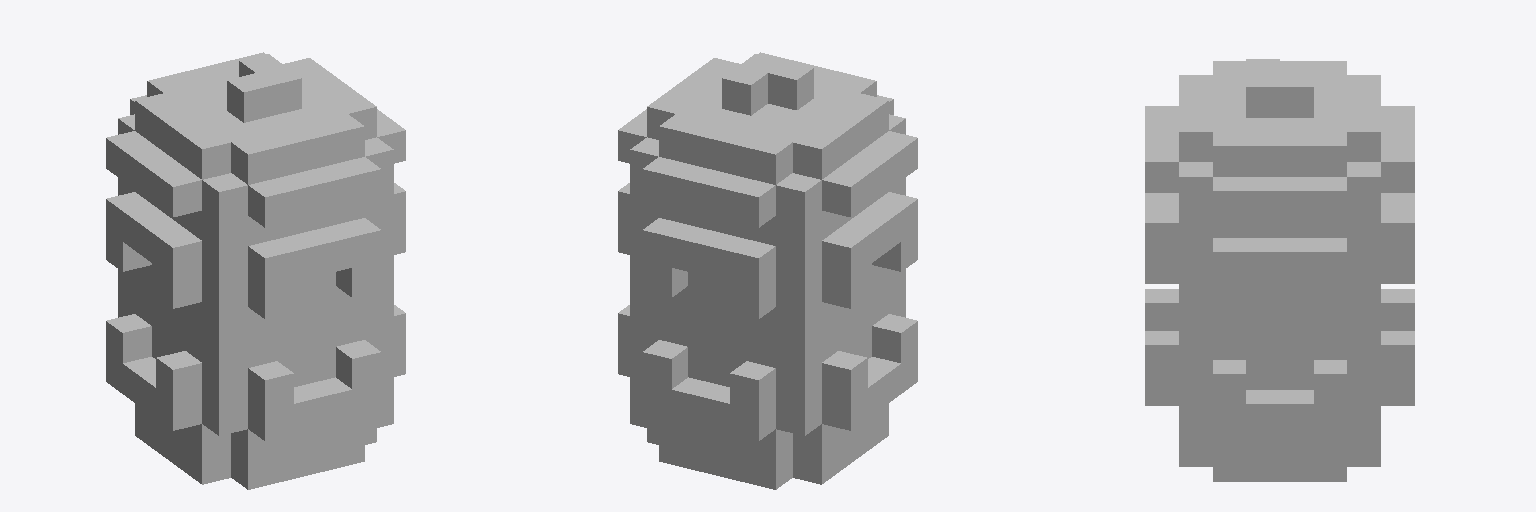
File: villageBarrel-0.obj
3 renders of one model, left to right at view 1: azimuth 30°, elevation 25°; view 2: azimuth 150°, elevation 25°; view 3: azimuth 270°, elevation 25°, orthographic.
Visible parts, largest first — view 1: object 1; view 2: object 1; view 3: object 1.
Boxes of the visible parts, x1,y1,x2,y2 form: object 1: [106, 52, 405, 489]; object 1: [618, 52, 917, 489]; object 1: [1145, 59, 1414, 481].
Size of the model in its own units: 0.8 by 1.2 by 0.8.